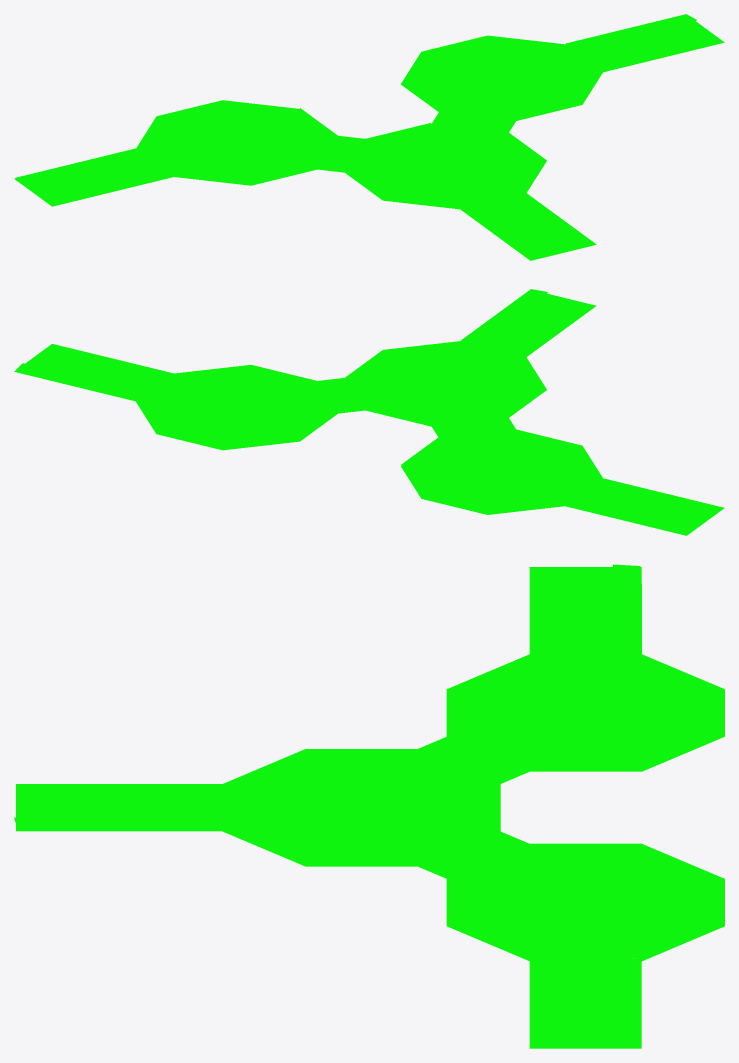
The model's file is s07a_tb3-floor.glb.
3 views of the same model, one above another, from view 1: azimuth 30°, elevation 25°; view 2: azimuth 150°, elevation 25°; view 3: azimuth 270°, elevation 25° (orthographic). The views are drawn at different scales.
Parts seen in each view (by area): view 1: collision_floor-colonly; view 2: collision_floor-colonly; view 3: collision_floor-colonly.
Boxes of the visible parts, x1,y1,x2,y2 form: collision_floor-colonly: (14, 14, 724, 260); collision_floor-colonly: (14, 289, 724, 535); collision_floor-colonly: (14, 564, 724, 1048).
Bounding box in the file's own units: 61.16 × 0.0996 × 38.03.
